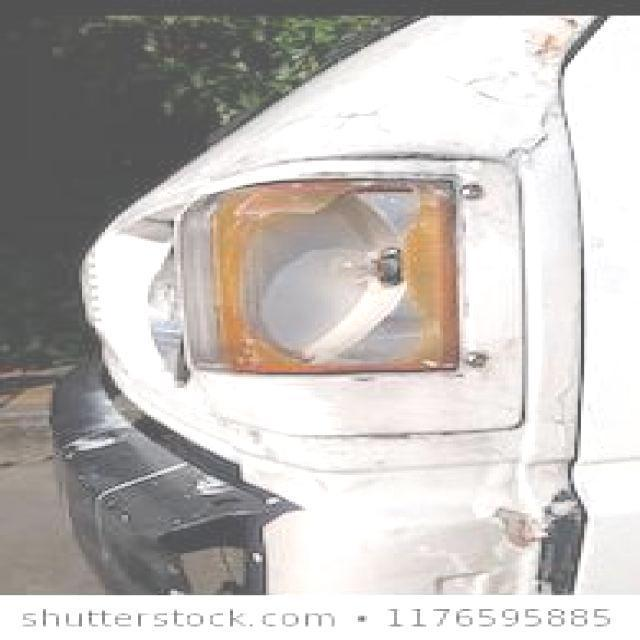minor: (436, 375, 588, 593), (333, 106, 386, 134)
moderate: (224, 185, 451, 368)
